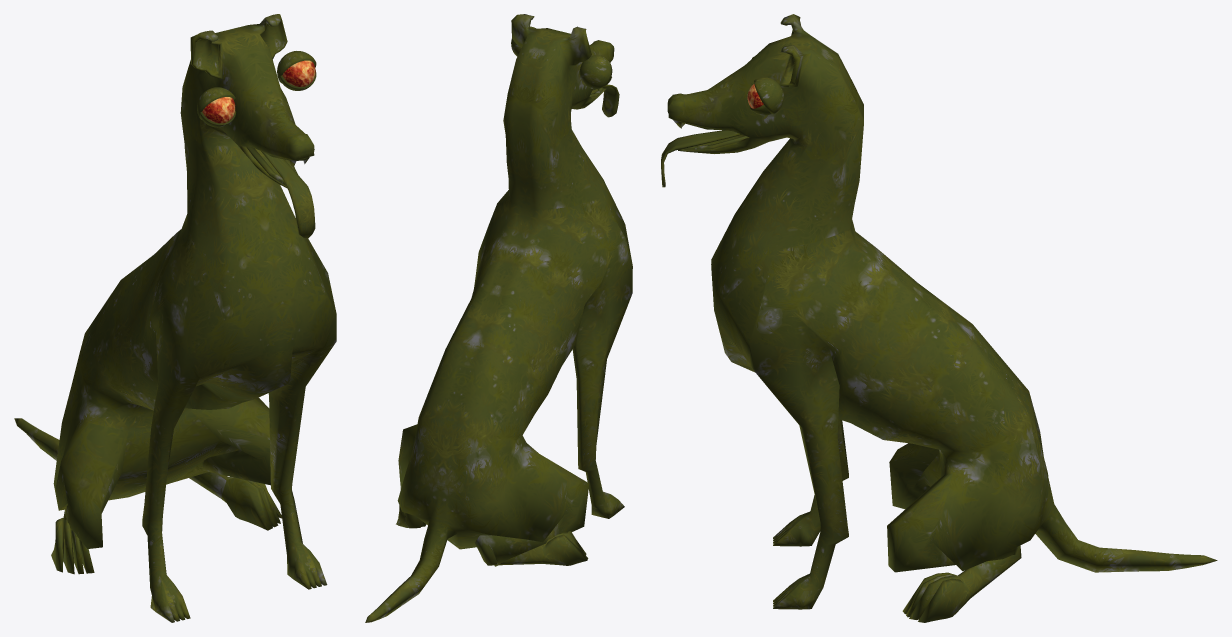
Rendered from Dog_sitting.fbx.
3 renders of one model, left to right at view 1: azimuth 30°, elevation 25°; view 2: azimuth 150°, elevation 25°; view 3: azimuth 270°, elevation 25°, orthographic. The views are drawn at different scales.
Visible parts, largest first — view 1: Dog, Tongue.001, Eye.R, Eye.L, EyeLidUpper.L, EyeLidUpper.R; view 2: Dog, EyeLidUpper.R, Tongue.001; view 3: Dog, Tongue.001, EyeLidUpper.L.
Part boxes in pixels (bbox=[...]): Dog: bbox=[14, 14, 336, 622]; Tongue.001: bbox=[261, 151, 315, 238]; Eye.R: bbox=[202, 97, 235, 123]; Eye.L: bbox=[282, 60, 315, 86]; EyeLidUpper.L: bbox=[277, 51, 316, 83]; EyeLidUpper.R: bbox=[197, 87, 235, 119]; Dog: bbox=[365, 14, 632, 622]; EyeLidUpper.R: bbox=[579, 55, 612, 89]; Tongue.001: bbox=[592, 84, 619, 117]; Dog: bbox=[667, 14, 1217, 622]; Tongue.001: bbox=[661, 130, 741, 187]; EyeLidUpper.L: bbox=[754, 77, 783, 114].
Bounding box in the file's own units: 0.1808 × 0.4401 × 0.4105.
